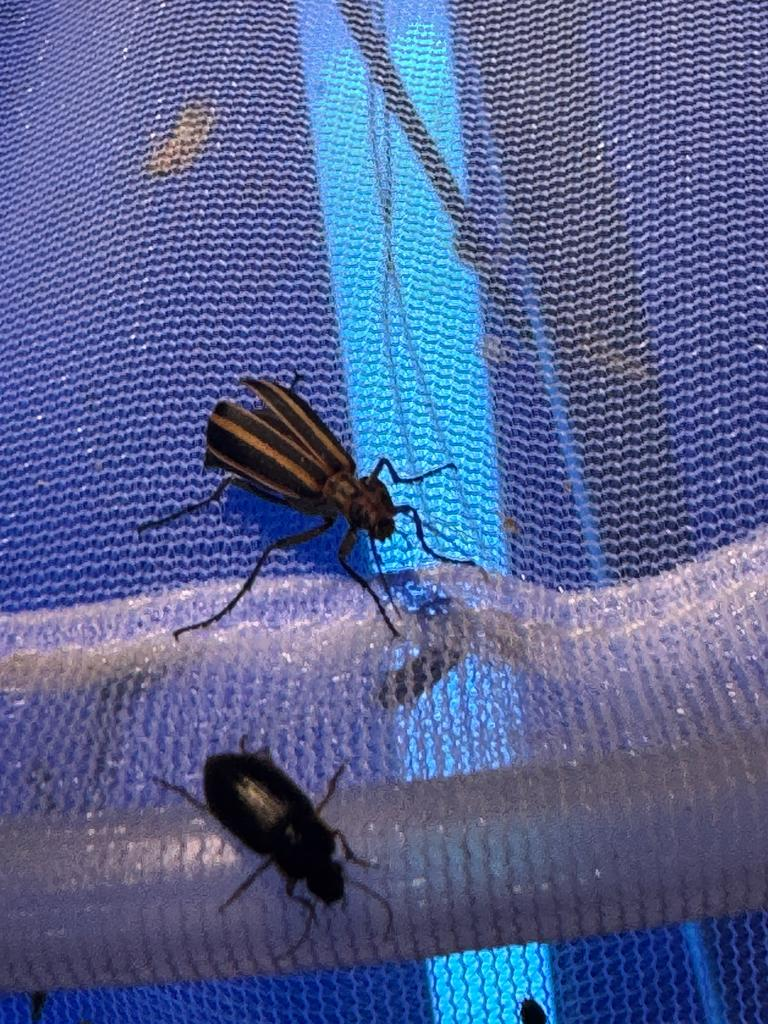blister_beetle: (117, 307, 545, 683)
